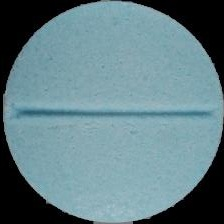50111-468: (0, 0, 224, 224)
